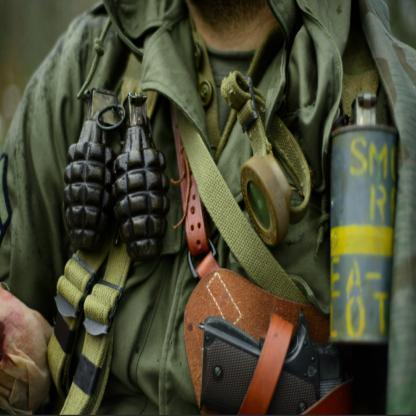Grenade: (328, 93, 402, 347), (112, 96, 172, 260), (65, 91, 116, 250)
Pistol: (199, 310, 347, 416)
